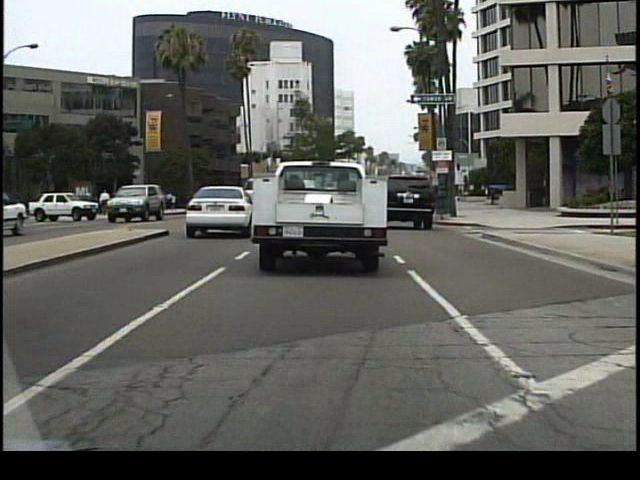person: (130, 182, 146, 213), (87, 188, 101, 219), (101, 185, 112, 220)
